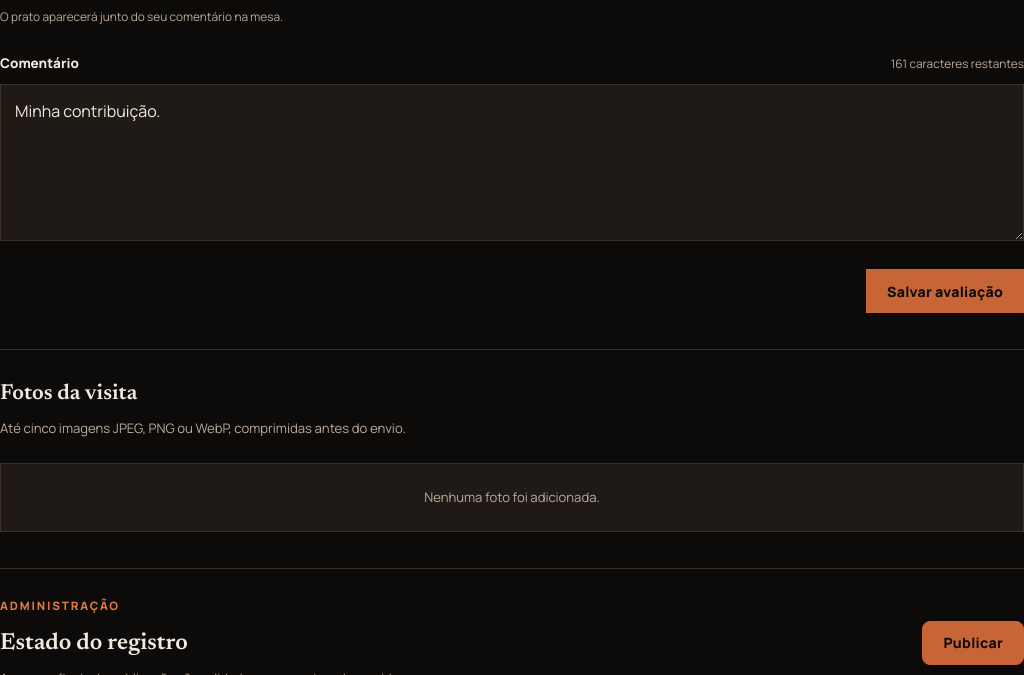
Test case: coordena auto-publicação e PATCH entre resumo, ficha e controle admin
(page scrolled)
Click the button "Salvar avaliação": (945, 292) [866,270,1023,314]
(page scrolled)
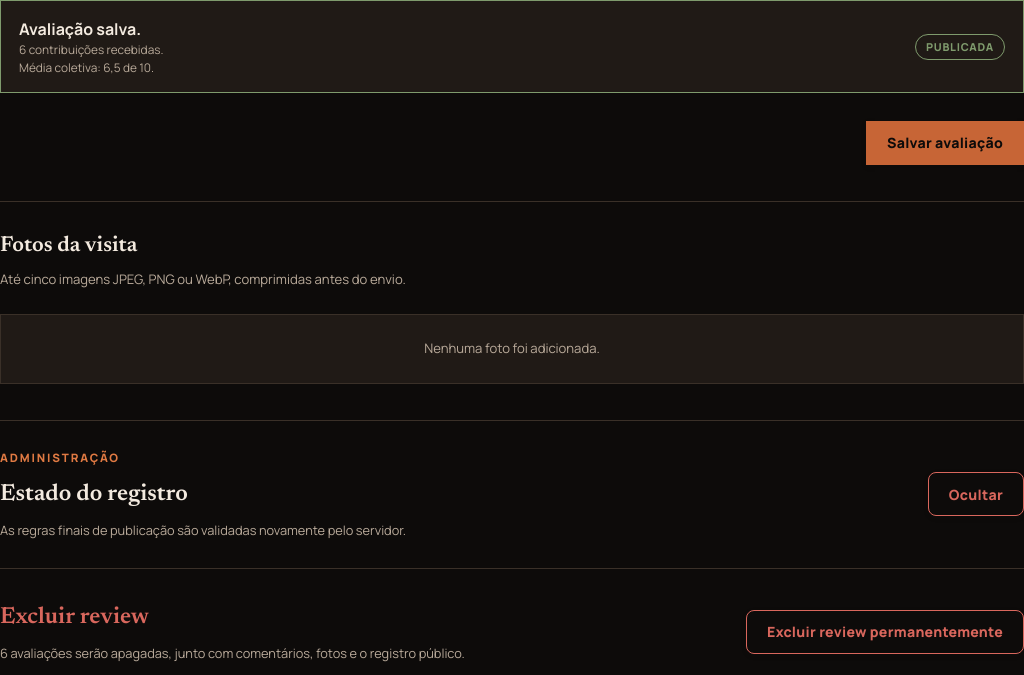
Expected: the button "Excluir review permanentemente" is shown, [746,610,1023,654]
Expected: the button "Ocultar" is shown
Expected: the element "Excluir review" shows "6 avaliações serão apagadas", [0,589,1023,674]
Click the button "Ocultar": (976, 494) [928,472,1023,516]
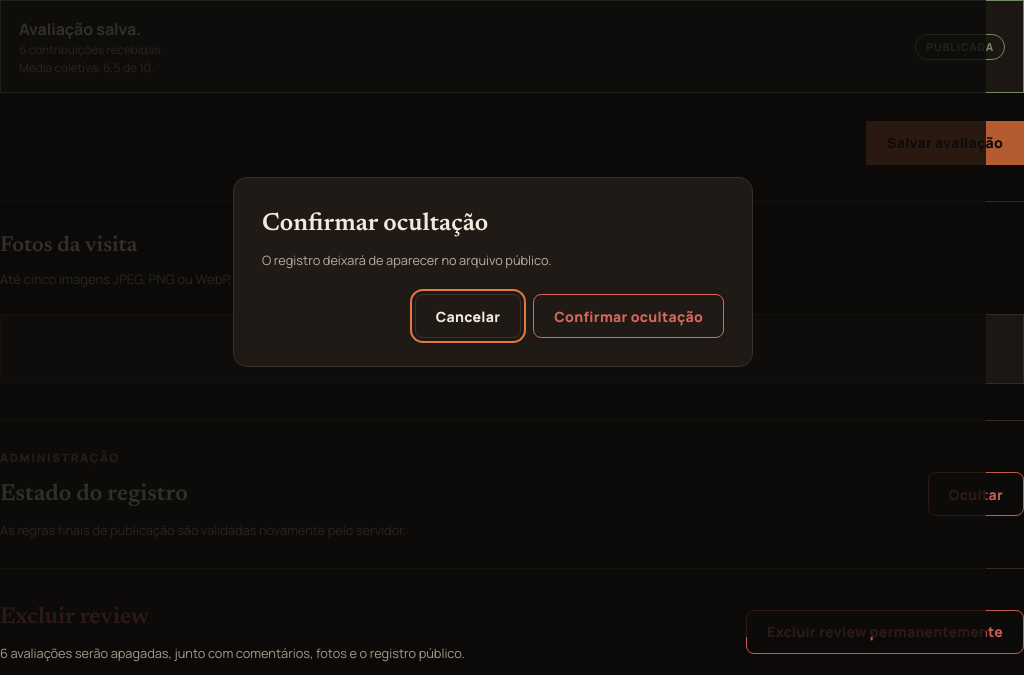
Click the button "Confirmar ocultação": (629, 316) [533,294,724,338]
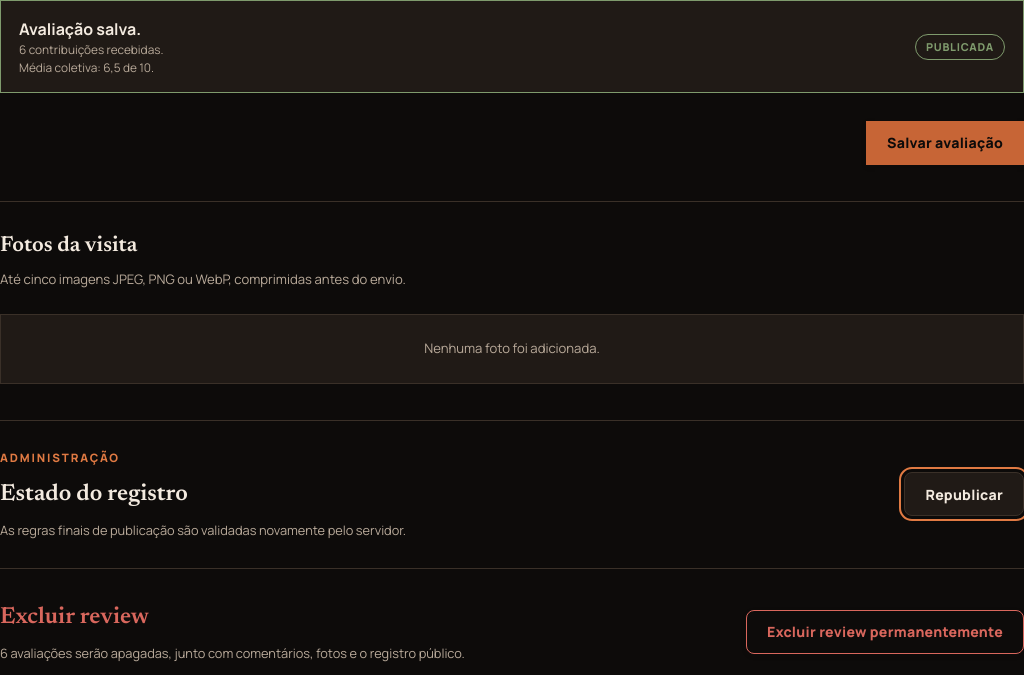
Expected: the button "Republicar" is shown, [904,472,1023,516]
